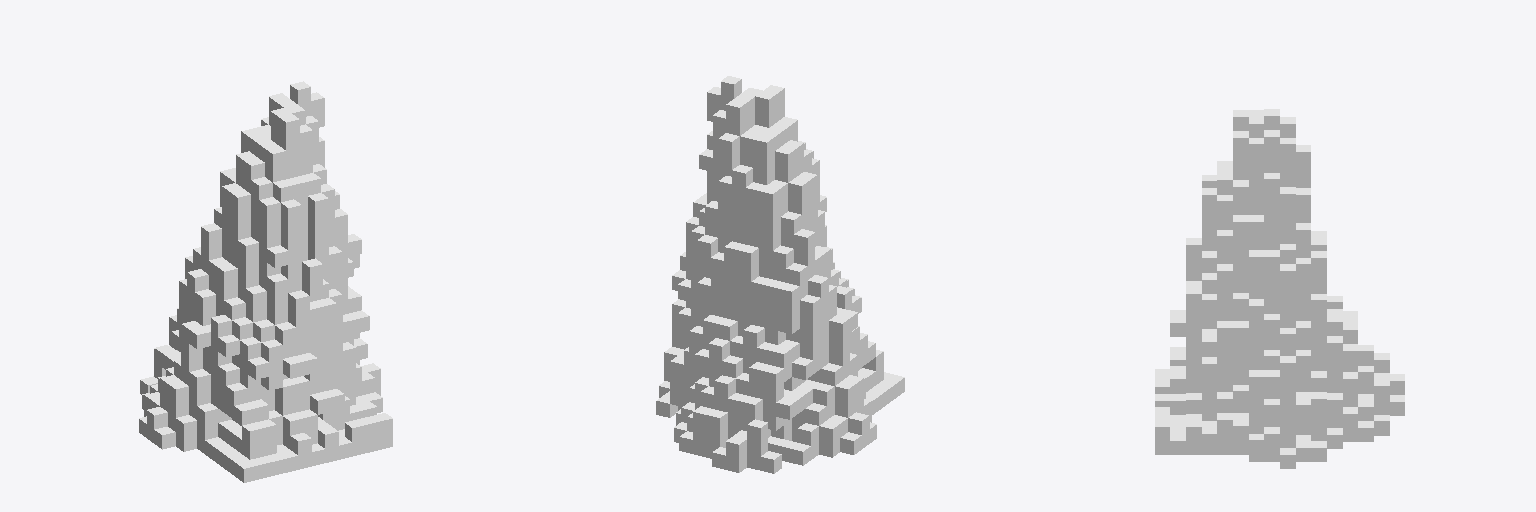
File: Rock_Last_All.obj
The picture shows the model from 3 angles: view 1: azimuth 30°, elevation 25°; view 2: azimuth 150°, elevation 25°; view 3: azimuth 270°, elevation 25°; orthographic projection.
Visible parts, largest first — view 1: object 1; view 2: object 1; view 3: object 1.
Boxes of the visible parts, <box> form: object 1: <box>139,81,392,482</box>; object 1: <box>656,76,904,473</box>; object 1: <box>1155,109,1404,468</box>.
Size of the model in its own units: 1.5 by 2.3 by 1.6.